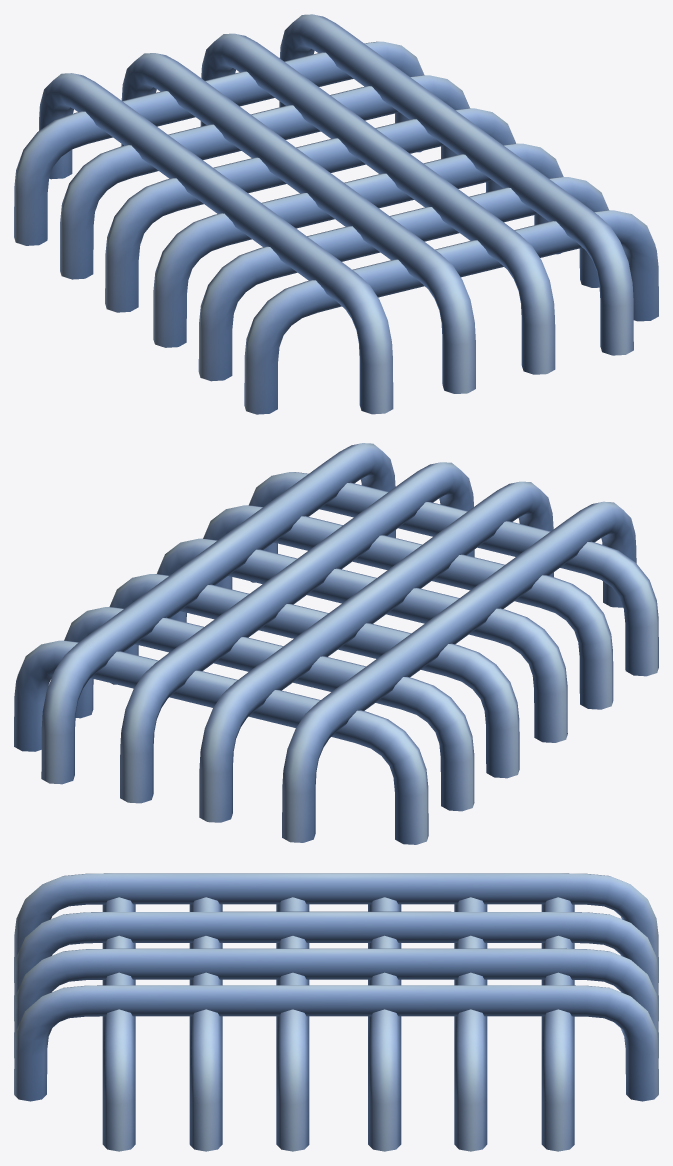
File: Lock_2x3.fbx
The picture shows the model from 3 angles, top to bottom: view 1: azimuth 30°, elevation 25°; view 2: azimuth 150°, elevation 25°; view 3: azimuth 270°, elevation 25°; orthographic projection. The views are drawn at different scales.
Parts seen in each view (by area): view 1: Lock_Squares_2x3; view 2: Lock_Squares_2x3; view 3: Lock_Squares_2x3.
Part boxes in pixels (x1=…): Lock_Squares_2x3: x1=14, y1=14, x2=658, y2=414; Lock_Squares_2x3: x1=14, y1=443, x2=658, y2=844; Lock_Squares_2x3: x1=14, y1=873, x2=658, y2=1151.
Bounding box in the file's own units: 2.33 × 0.7125 × 3.32.
